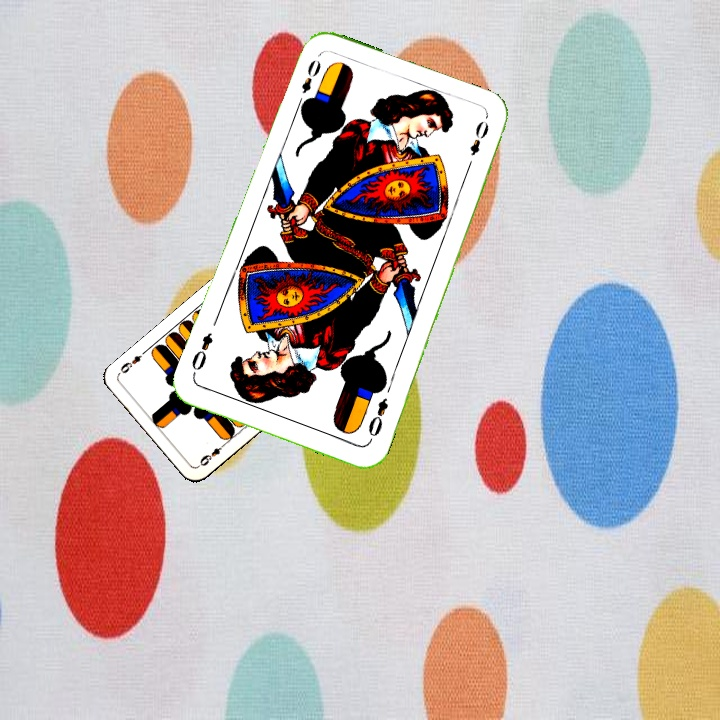E9: (194, 439, 228, 469)
EO: (364, 393, 391, 445), (297, 55, 324, 96)
